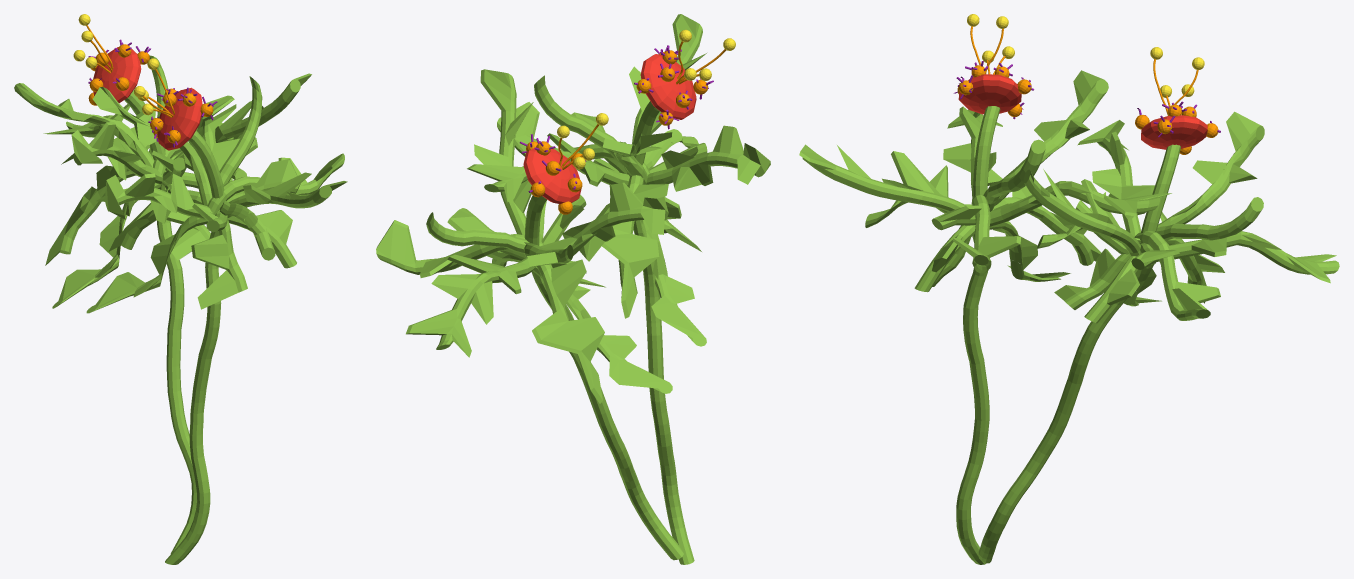
The model's file is plant25.glb.
The picture shows the model from 3 angles, left to right: view 1: azimuth 30°, elevation 25°; view 2: azimuth 150°, elevation 25°; view 3: azimuth 270°, elevation 25°; orthographic projection. The views are drawn at different scales.
Parts seen in each view (by area): view 1: group1144396284, group973328278, group2078729816, group1807754119, group1287294631, group2052940886, group1523620866, group839674927, group1892491915, group1394425611, group1798870037, group2594172 (+15 smaller); view 2: group537414055, group1798870037, group1144396284, group2078729816, group2594172, group973328278, group1287294631, group320645784, group811859695, group1394425611, group2100274693, group2052940886 (+14 smaller); view 3: group1144396284, group973328278, group839674927, group1892491915, group537414055, group2594172, group1287294631, group1523620866, group811859695, group2100274693, group1316103659, group1624203826 (+13 smaller).
Part boxes in pixels (<box>): group1144396284: <box>165,231,221,564</box>; group973328278: <box>157,184,196,553</box>; group2078729816: <box>96,173,212,223</box>; group1807754119: <box>191,210,247,309</box>; group1287294631: <box>61,122,162,184</box>; group2052940886: <box>86,216,207,313</box>; group1523620866: <box>92,87,212,205</box>; group839674927: <box>227,172,347,217</box>; group1892491915: <box>14,83,154,167</box>; group1394425611: <box>52,183,161,308</box>; group1798870037: <box>45,165,136,265</box>; group2594172: <box>174,73,311,159</box>; group537414055: <box>406,254,535,357</box>; group1798870037: <box>532,259,604,403</box>; group1144396284: <box>633,220,694,564</box>; group2078729816: <box>646,125,770,191</box>; group2594172: <box>474,69,533,235</box>; group973328278: <box>531,271,683,560</box>; group1287294631: <box>562,182,668,261</box>; group320645784: <box>602,175,668,318</box>; group811859695: <box>376,220,544,277</box>; group1394425611: <box>533,266,672,393</box>; group2100274693: <box>467,133,629,202</box>; group2052940886: <box>641,220,706,346</box>; group1144396284: <box>956,234,989,564</box>; group973328278: <box>978,269,1141,563</box>; group839674927: <box>799,144,966,211</box>; group1892491915: <box>1157,111,1264,227</box>; group537414055: <box>1157,231,1339,283</box>; group2594172: <box>1023,169,1140,256</box>; group1287294631: <box>1077,120,1154,236</box>; group1523620866: <box>994,70,1108,205</box>; group811859695: <box>1134,231,1220,320</box>; group2100274693: <box>989,181,1171,226</box>; group1316103659: <box>953,194,1021,273</box>; group1624203826: <box>958,74,1021,114</box>.
Size of the model in its own units: 1.45 by 2.78 by 2.52.
